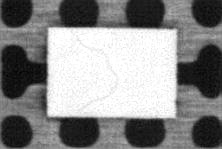DIE_CRACK: (73, 33, 119, 108)
